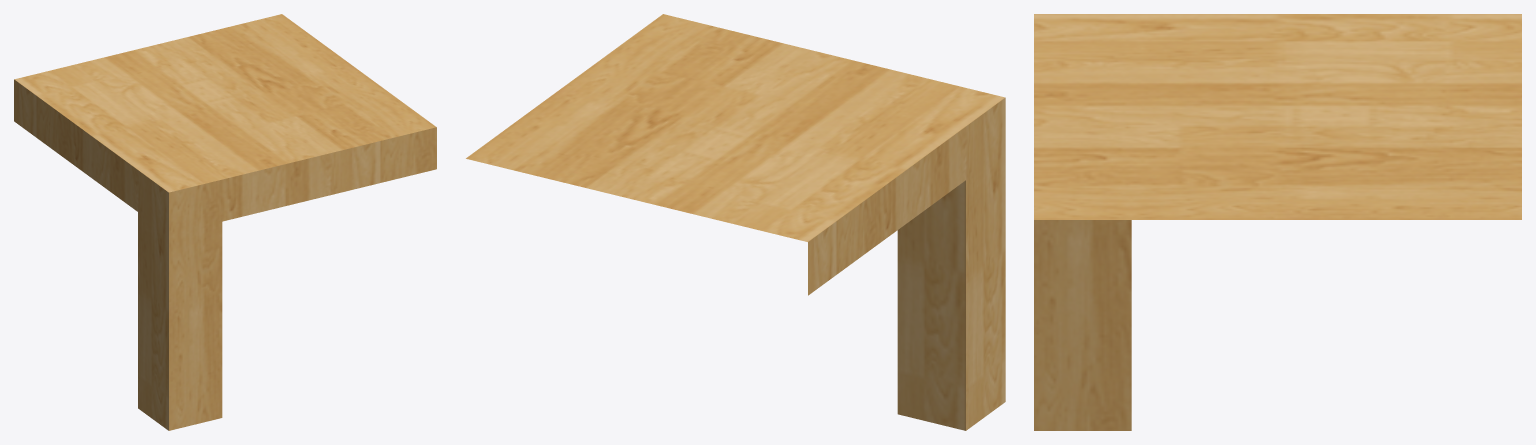
Rendered from tablepeice.obj.
3 views of the same model, side by side, from view 1: azimuth 30°, elevation 25°; view 2: azimuth 150°, elevation 25°; view 3: azimuth 270°, elevation 25° (orthographic). The views are drawn at different scales.
Size of the model in its own units: 2 by 1.7 by 2.
